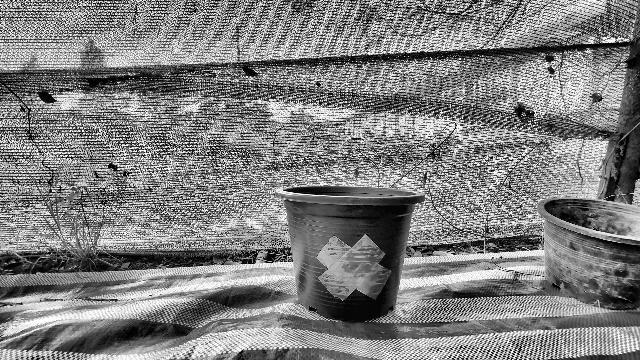pot: (275, 185, 424, 322), (536, 198, 640, 311)
